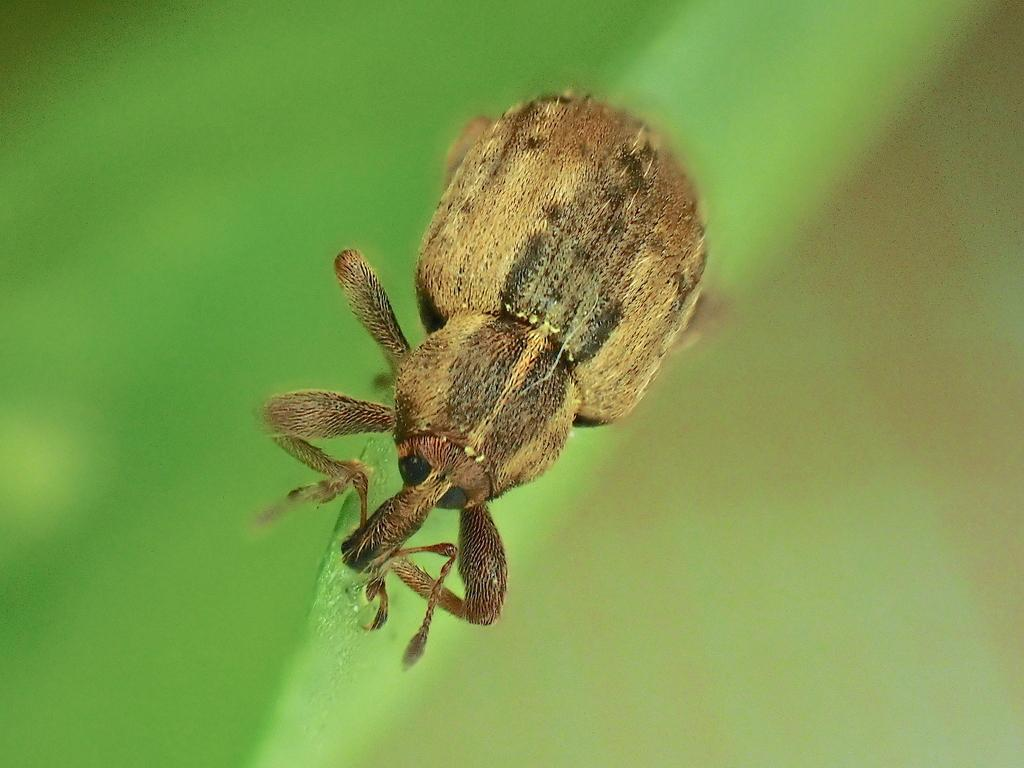weevils: (191, 44, 838, 721)
